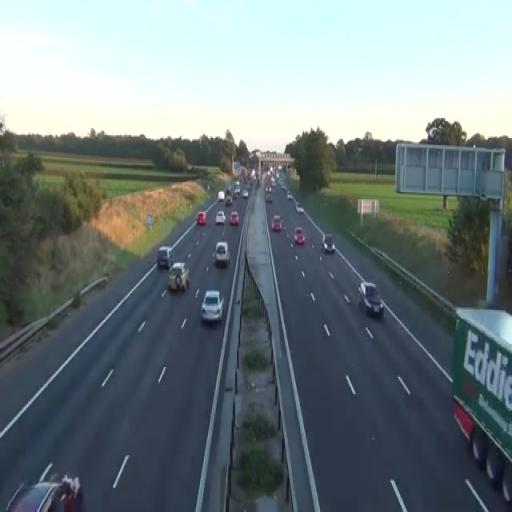Car: (358, 281, 384, 318), (201, 288, 224, 324), (168, 262, 190, 292), (214, 240, 230, 268), (157, 246, 173, 270), (294, 227, 305, 245), (272, 215, 282, 232), (216, 211, 226, 226), (197, 212, 207, 226), (230, 211, 239, 226)
Truck: (451, 306, 512, 503)
